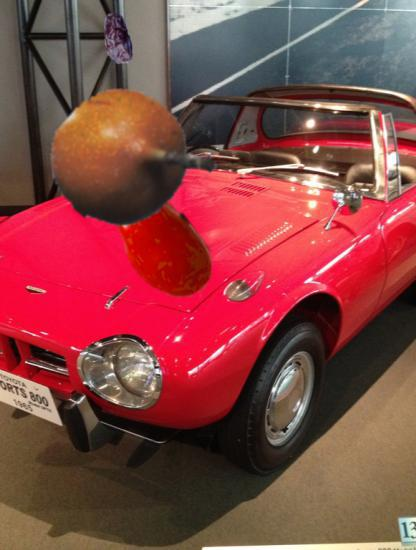Dates: (90, 12, 144, 66)
Granadilla: (50, 88, 200, 238)
Tomato: (90, 172, 227, 309)
